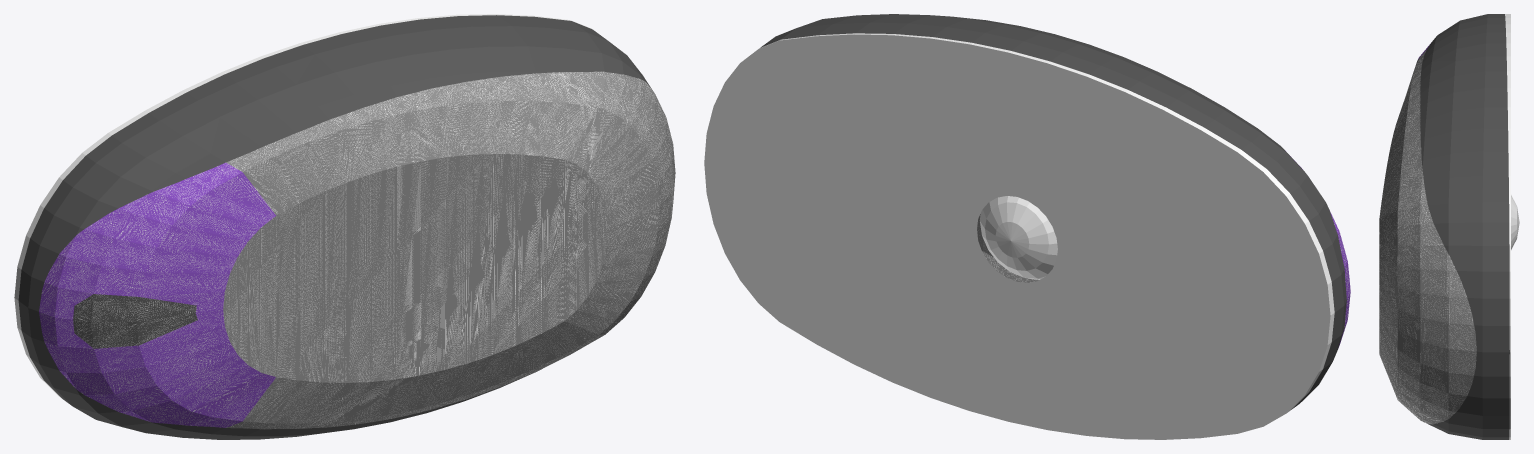
3 renders of one model, left to right at view 1: azimuth 30°, elevation 25°; view 2: azimuth 150°, elevation 25°; view 3: azimuth 270°, elevation 25°, orthographic. The views are drawn at different scales.
Visible parts, largest first — view 1: mouse; view 2: mouse; view 3: mouse.
Part boxes in pixels (left/top/right/bottom): mouse: left=14, top=14, right=675, bottom=439; mouse: left=704, top=14, right=1350, bottom=439; mouse: left=1379, top=14, right=1519, bottom=439.
Bounding box in the file's own units: 156 × 88.12 × 36.
